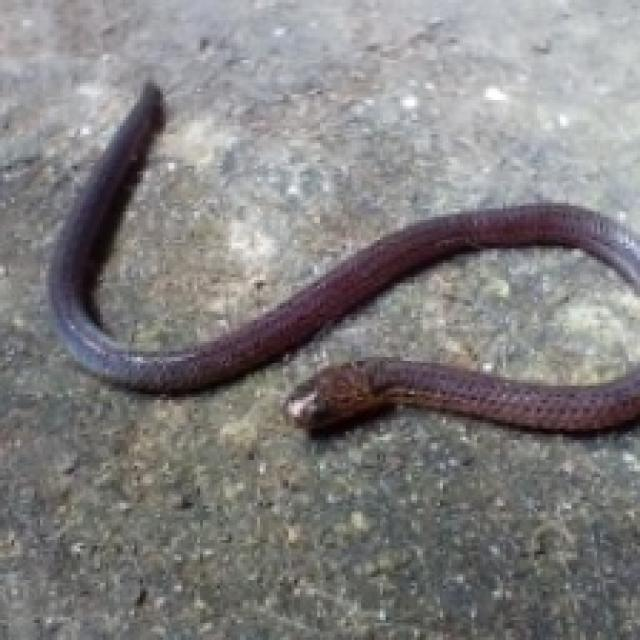gervais worm snake: (49, 83, 637, 391), (286, 357, 637, 429)
